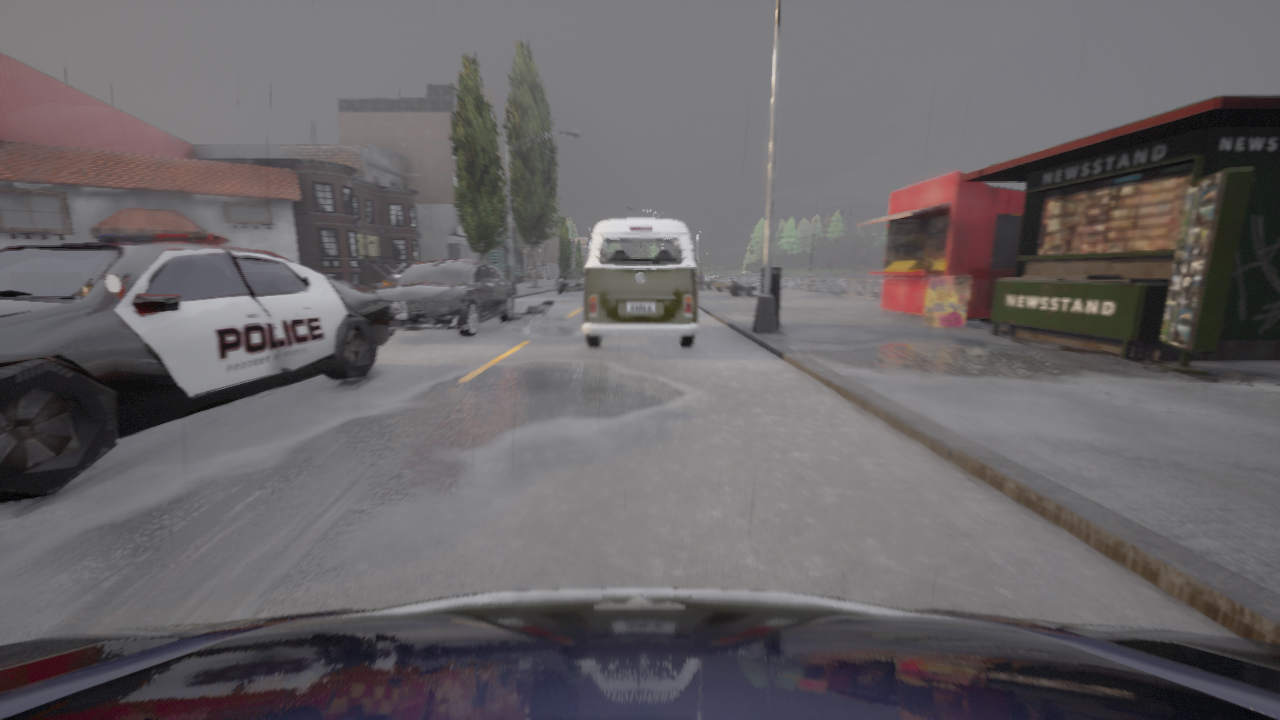cyclist: (0, 588, 1279, 719), (0, 234, 389, 503), (582, 219, 699, 348), (375, 259, 513, 337), (557, 269, 585, 293)
pedestrian: (698, 272, 703, 290)
